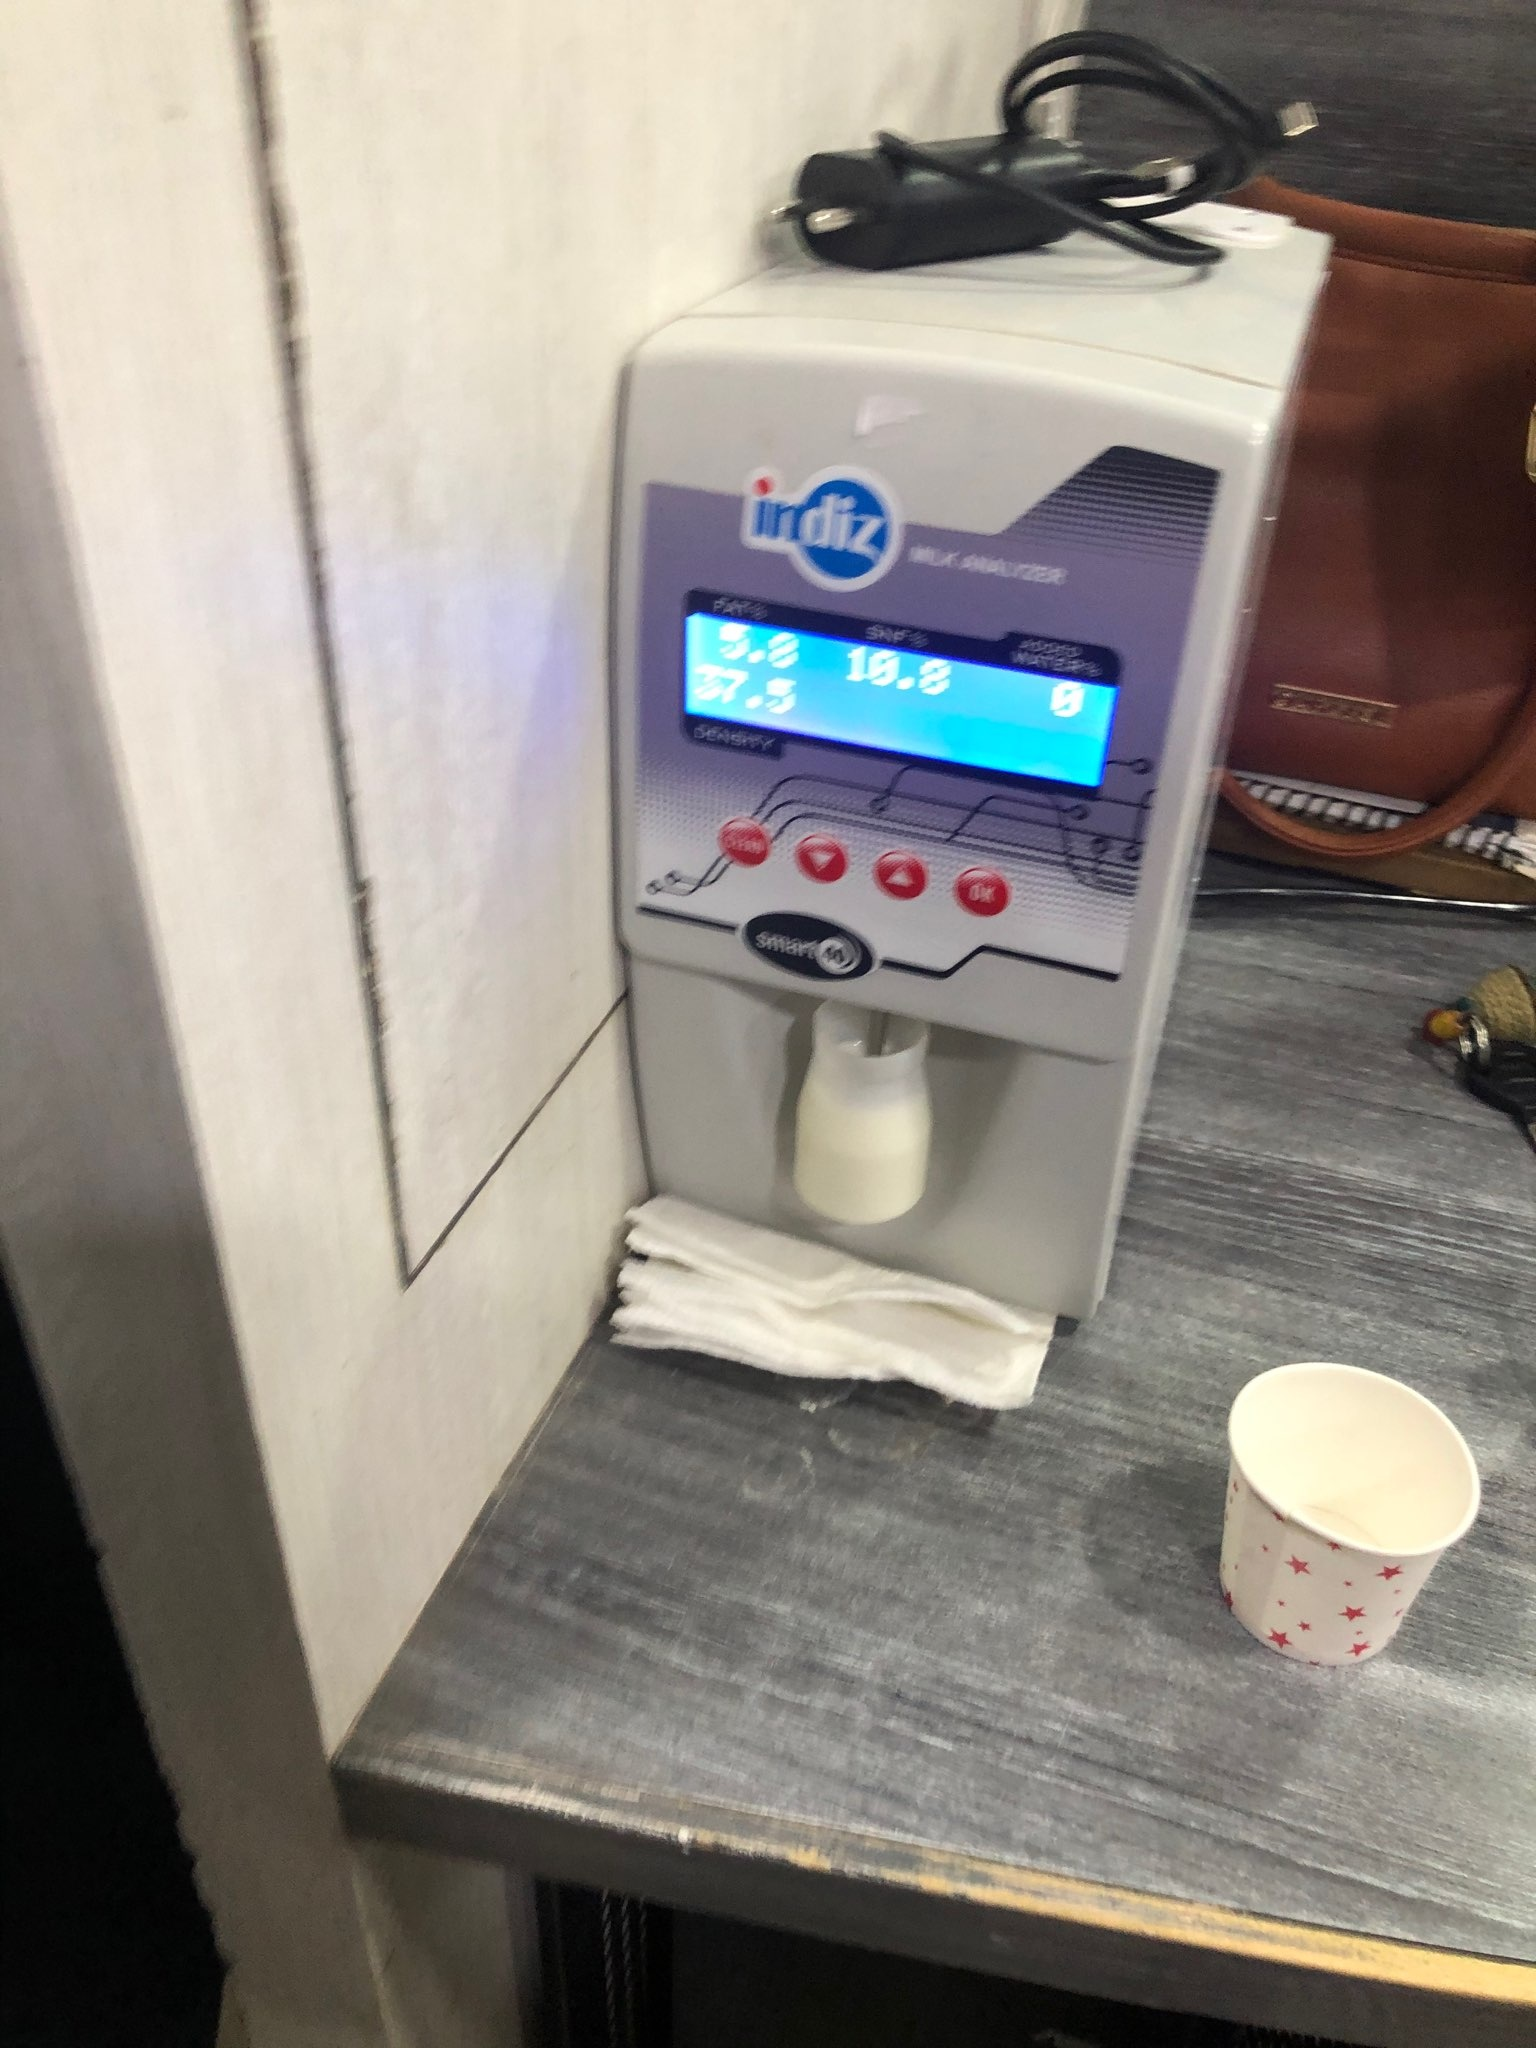lcd: (674, 568, 1125, 814)
